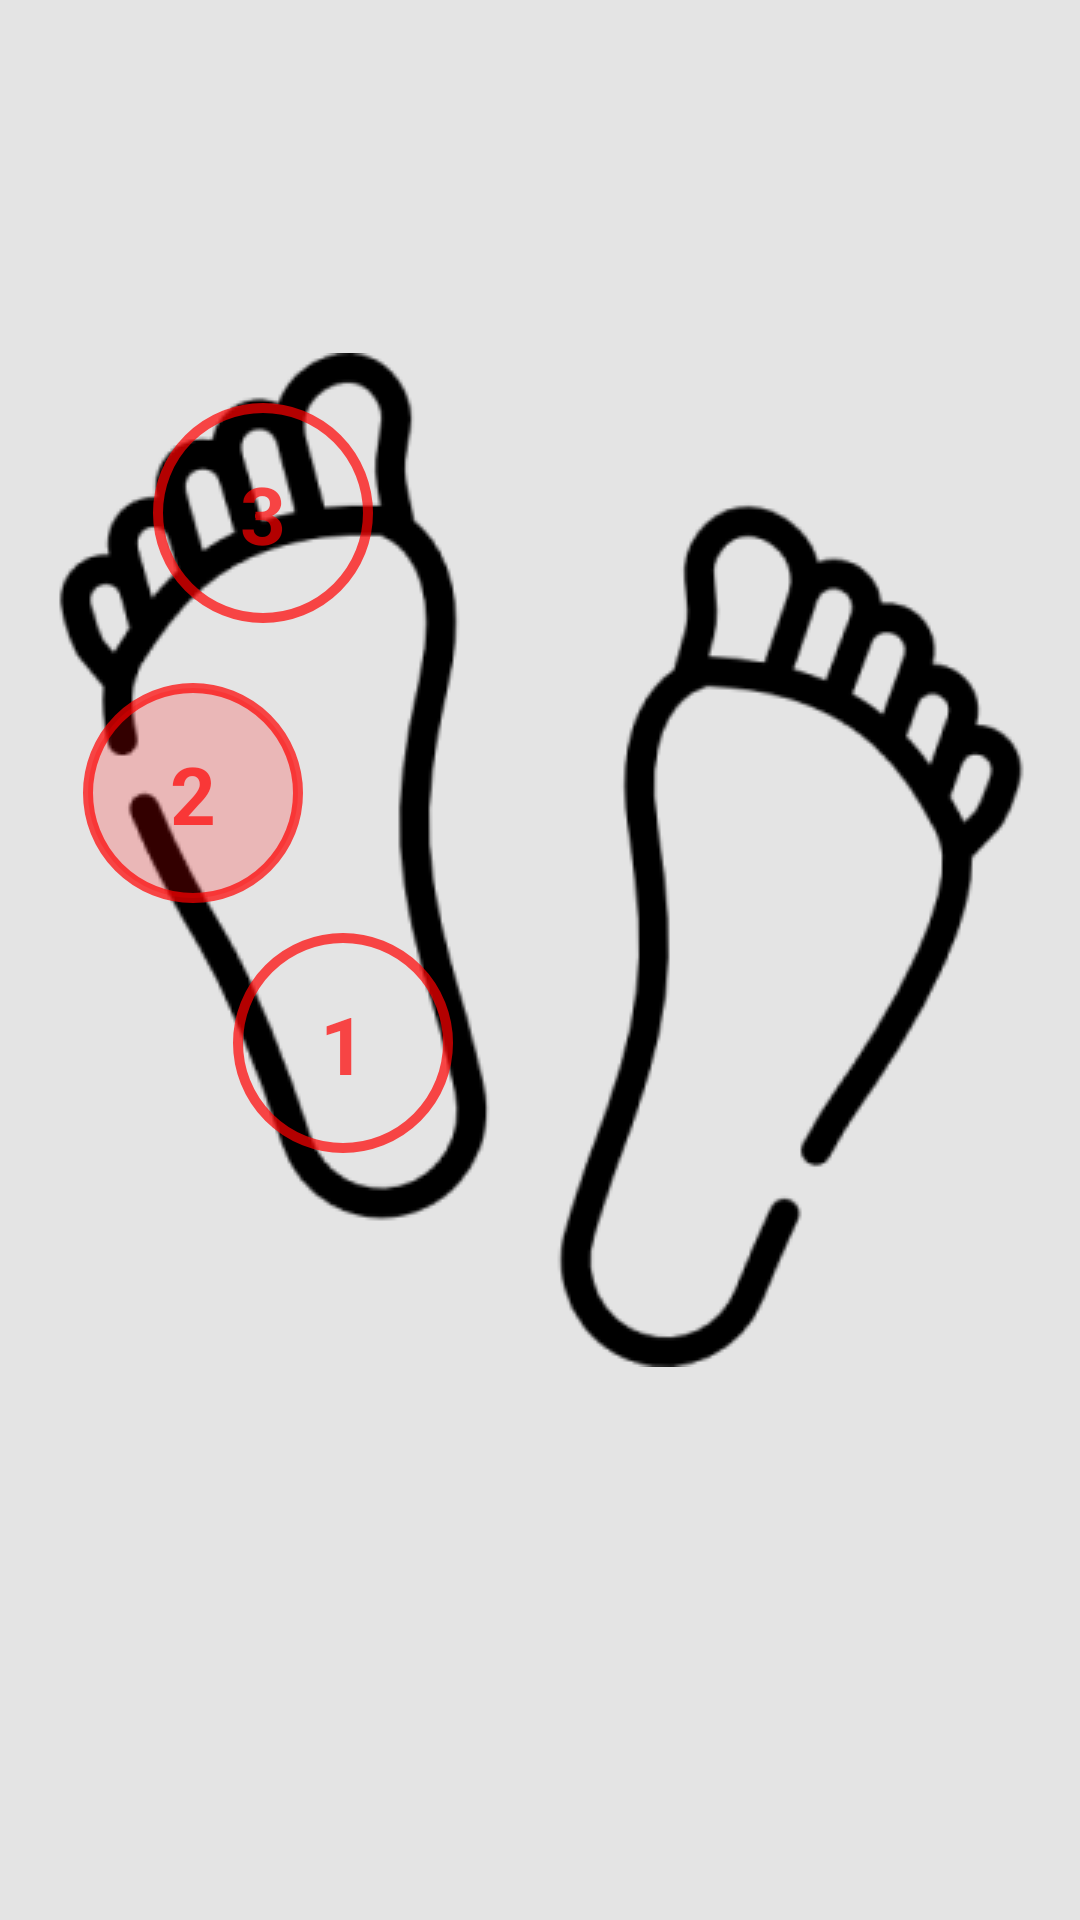

Named icons in this screenshot (1080w x 1920h) and their centers, (x,y):
tutorial circle: (263,513), (343,1043)
tutorial circle checked: (193,793)
